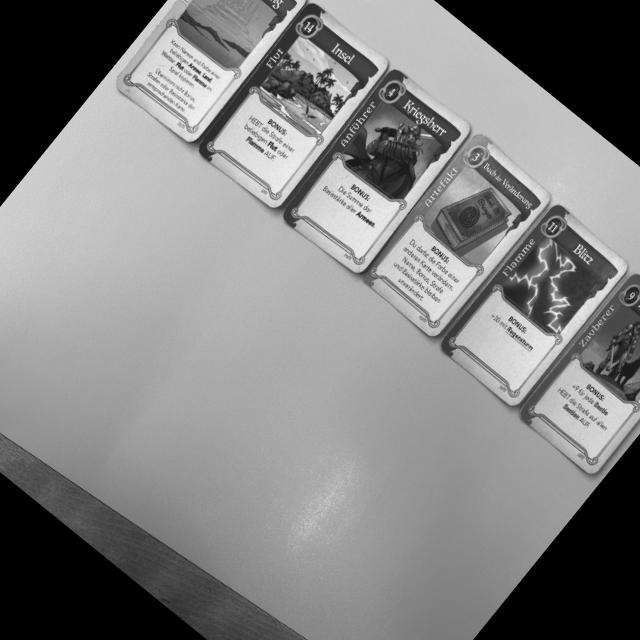Beast Master: (513, 272, 640, 480)
Book Of Changes: (350, 132, 552, 345)
Island: (193, 0, 395, 213)
Lightning: (438, 200, 629, 414)
Mirage: (107, 0, 305, 149)
Warlord: (269, 66, 473, 282)
